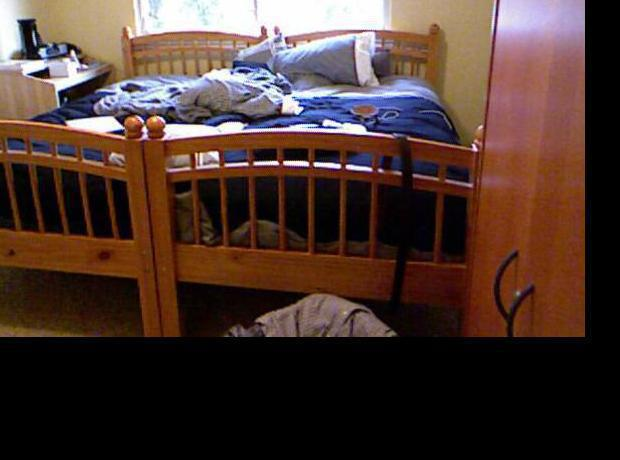Armario: (467, 0, 584, 336)
